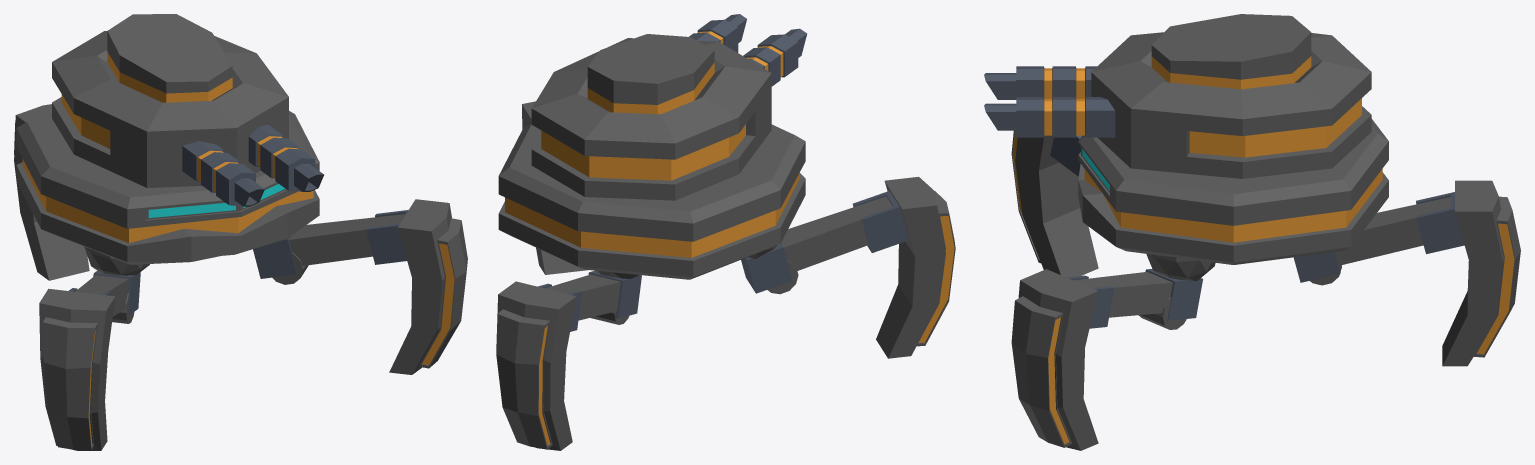
The model's file is laserTripod.fbx.
3 renders of one model, left to right at view 1: azimuth 30°, elevation 25°; view 2: azimuth 150°, elevation 25°; view 3: azimuth 270°, elevation 25°, orthographic. The views are drawn at different scales.
Parts seen in each view (by area): view 1: laserBody.001, triBase.001, legClaw.002, lasBarrel.001, Cube.002, legClaw.003, smallerJoint.005, smallerJoint.004, ballJoint.002, rotateJoint.002; view 2: laserBody.001, triBase.001, legClaw.003, legClaw.002, Cube.002, lasBarrel.001, Cube.003, smallerJoint.004, smallerJoint.005, smallerJoint.007; view 3: laserBody.001, triBase.001, legClaw.002, legClaw.003, lasBarrel.001, Cube.003, Cube.002, smallerJoint.006, smallerJoint.004, smallerJoint.005, ballJoint.002, smallerJoint.007.
Boxes of the visible parts, x1,y1,x2,y2 form: laserBody.001: (52, 14, 288, 187); triBase.001: (16, 110, 319, 264); legClaw.002: (39, 199, 467, 450); lasBarrel.001: (182, 125, 323, 206); Cube.002: (75, 214, 405, 316); legClaw.003: (14, 104, 89, 280); smallerJoint.005: (93, 236, 296, 315); smallerJoint.004: (69, 210, 408, 295); ballJoint.002: (84, 246, 149, 275); rotateJoint.002: (112, 253, 308, 323); laserBody.001: (531, 34, 771, 200); triBase.001: (498, 123, 805, 279); legClaw.003: (496, 281, 576, 450); legClaw.002: (522, 101, 955, 358); Cube.002: (781, 196, 892, 270); lasBarrel.001: (689, 14, 807, 86); Cube.003: (545, 274, 620, 320); smallerJoint.004: (852, 191, 908, 252); smallerJoint.005: (741, 243, 792, 293); smallerJoint.007: (588, 270, 641, 318); laserBody.001: (1091, 14, 1371, 178); triBase.001: (1078, 119, 1388, 264); legClaw.002: (1011, 130, 1098, 450); legClaw.003: (1442, 180, 1520, 366); lasBarrel.001: (984, 66, 1115, 137); Cube.003: (1335, 197, 1450, 265); Cube.002: (1073, 135, 1172, 317); smallerJoint.006: (1416, 192, 1464, 254); smallerJoint.004: (1050, 135, 1114, 328); smallerJoint.005: (1145, 269, 1202, 320); ballJoint.002: (1146, 254, 1215, 281); smallerJoint.007: (1293, 252, 1340, 282).
Size of the model in its own units: 318 by 220 by 330.
Materials: 3 (3 with a texture image).
